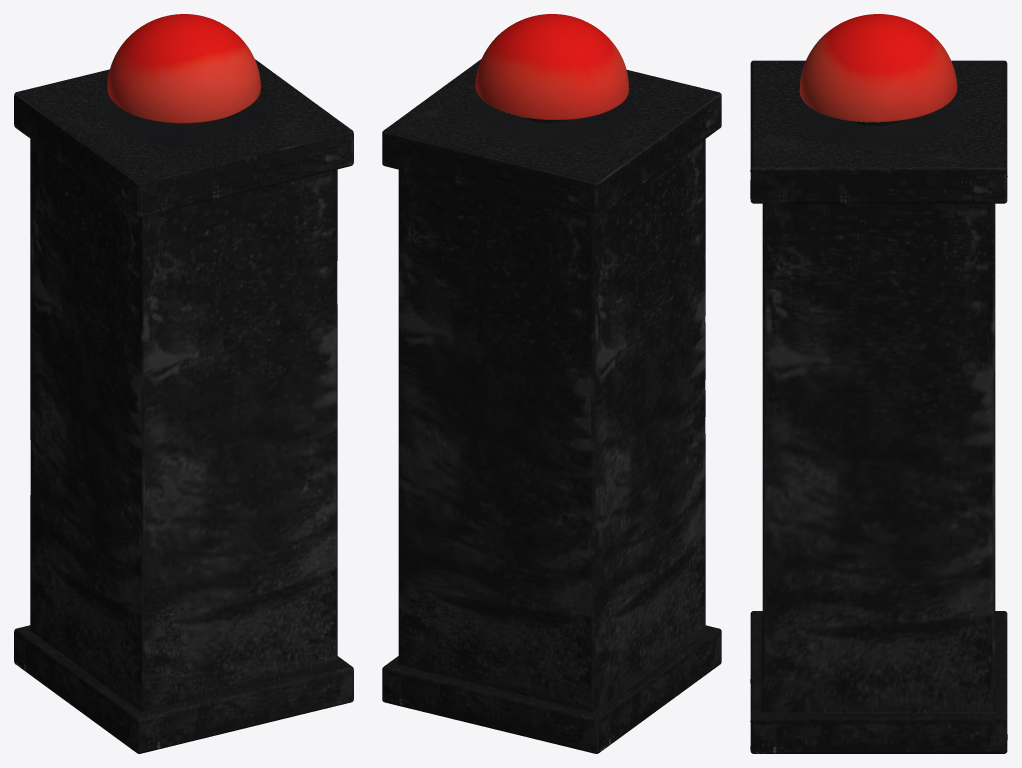
Rendered from red_button.glb.
3 renders of one model, left to right at view 1: azimuth 30°, elevation 25°; view 2: azimuth 150°, elevation 25°; view 3: azimuth 270°, elevation 25°, orthographic. The views are drawn at different scales.
Size of the model in its own units: 0.6525 by 1.9 by 0.6527.
1 material, 1 textured.
